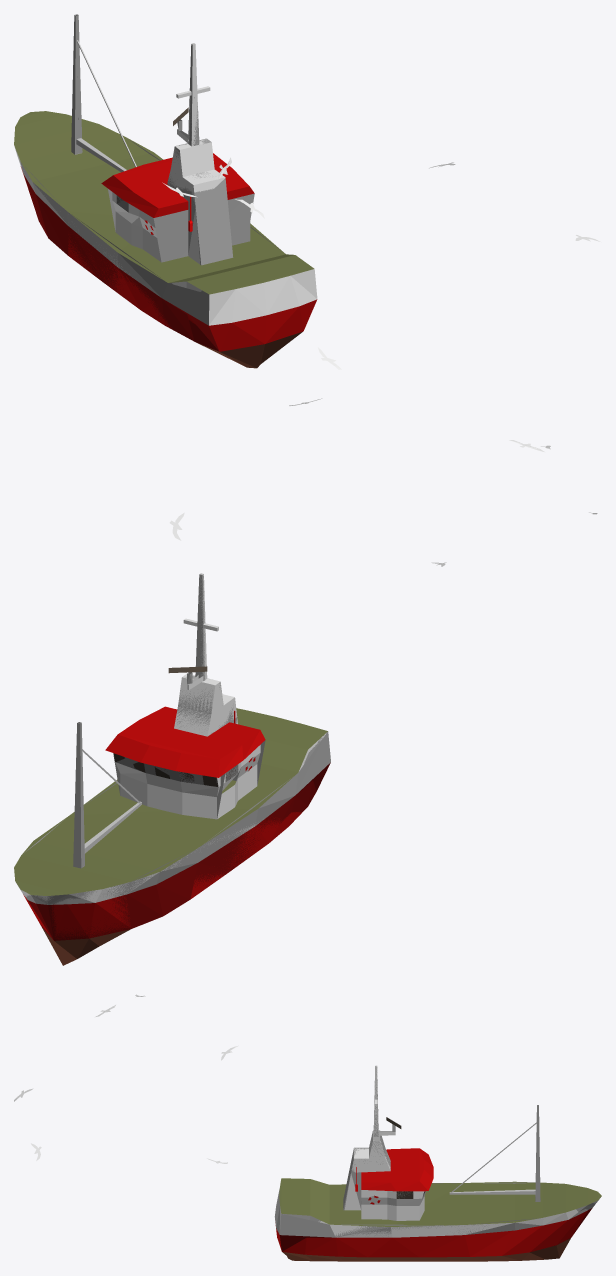
The model's file is fish01L.dae.
The picture shows the model from 3 angles, top to bottom: view 1: azimuth 30°, elevation 25°; view 2: azimuth 150°, elevation 25°; view 3: azimuth 270°, elevation 25°; orthographic projection. The views are drawn at different scales.
Visible parts, largest first — view 1: SketchUp (×7), o41, Hull (×2), o49, o42, o32, o39; view 2: SketchUp (×5), o41, Hull (×2), o39 (×2), o42, o49; view 3: Hull (×3), o41, SketchUp (×4), o49, o42, Mast.
Boxes of the visible parts, x1,y1,x2,y2 form: SketchUp (×7): (20,44,264,368); o41: (14,111,314,294); Hull (×2): (14,146,317,351); o49: (25,139,281,325); o42: (71,15,82,154); o32: (178,195,250,258); o39: (167,138,227,206); SketchUp (×5): (17,574,327,965); o41: (14,708,327,895); Hull (×2): (20,733,326,939); o39 (×2): (176,574,221,727); o42: (73,723,84,868); o49: (24,731,330,880); Hull (×3): (274,1188,599,1261); o41: (279,1178,601,1226); SketchUp (×4): (283,1066,598,1261); o49: (279,1182,539,1237); o42: (535,1106,540,1201); Mast: (449,1189,535,1194).
Bounding box in the file's own units: 19.92 × 46 × 18.92.
